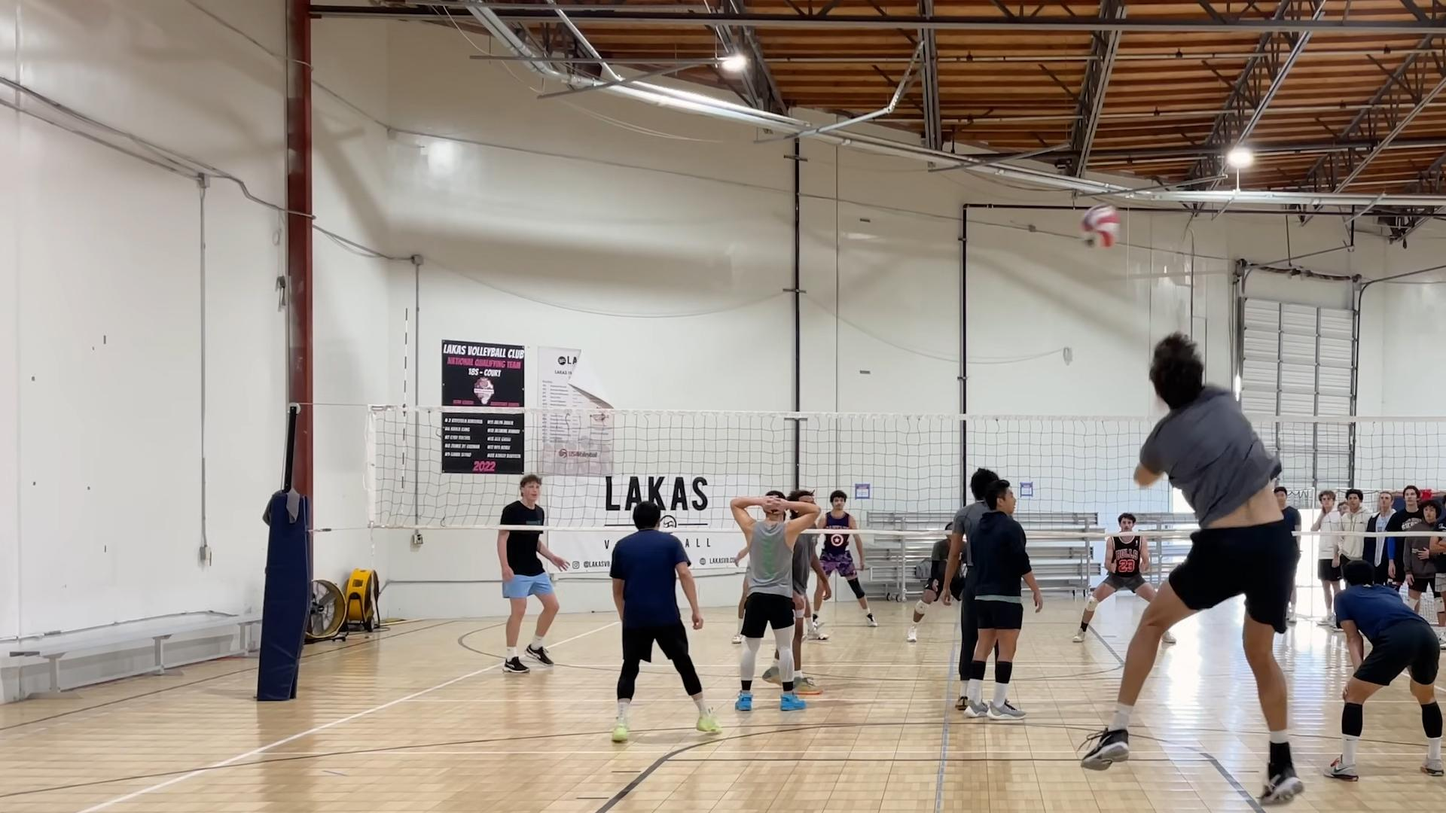Player: (610, 502, 720, 741), (1326, 561, 1442, 781), (731, 491, 818, 710), (964, 480, 1042, 720), (944, 468, 999, 709), (1072, 513, 1155, 642), (497, 530, 567, 672), (818, 490, 877, 626), (792, 533, 822, 695), (906, 535, 950, 642), (731, 573, 748, 644)
Serve: (1119, 320, 1309, 744)
ball: (1084, 200, 1121, 248)
